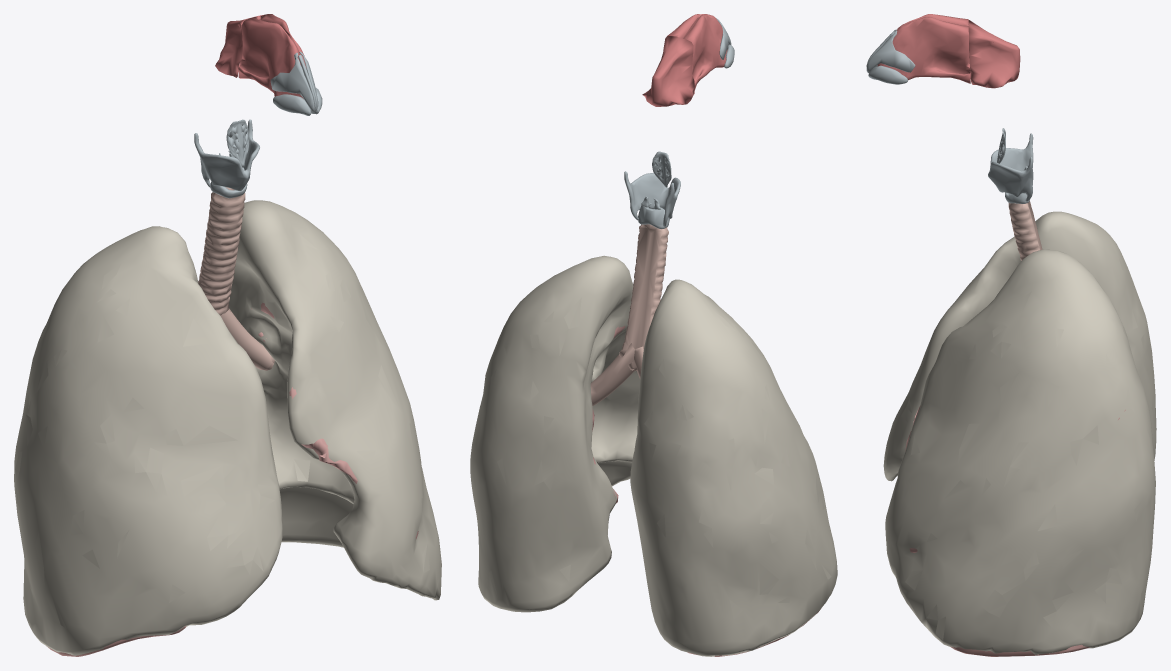
File: adult_male.respiratory.LOD1.glb
3 renders of one model, left to right at view 1: azimuth 30°, elevation 25°; view 2: azimuth 150°, elevation 25°; view 3: azimuth 270°, elevation 25°, orthographic. The views are drawn at different scales.
Parts seen in each view (by area): view 1: ADULT.MALE.RESPIRATORY.PLEURA, ADULT.MALE.RESPIRATORY.TRACHEA, ADULT.MALE.RESPIRATORY.MUCOSA_OF_NASAL_CAVITY, ADULT.MALE.RESPIRATORY.THYROID_CARTILAGE, ADULT.MALE.RESPIRATORY.NASOPHARYNX, ADULT.MALE.RESPIRATORY.LEFT_MAIN_BRONCHUS, ADULT.MALE.RESPIRATORY.LATERAL_PROCESS_OF_NASAL_SEPTAL_CARTI, ADULT.MALE.RESPIRATORY.EPIGLOTTIS, ADULT.MALE.RESPIRATORY.SUPERIOR_LOBE_OF_LEFT_LUNG; view 2: ADULT.MALE.RESPIRATORY.PLEURA, ADULT.MALE.RESPIRATORY.TRACHEA, ADULT.MALE.RESPIRATORY.NASOPHARYNX, ADULT.MALE.RESPIRATORY.MUCOSA_OF_NASAL_CAVITY, ADULT.MALE.RESPIRATORY.THYROID_CARTILAGE, ADULT.MALE.RESPIRATORY.LEFT_MAIN_BRONCHUS; view 3: ADULT.MALE.RESPIRATORY.PLEURA, ADULT.MALE.RESPIRATORY.MUCOSA_OF_NASAL_CAVITY, ADULT.MALE.RESPIRATORY.NASOPHARYNX, ADULT.MALE.RESPIRATORY.THYROID_CARTILAGE, ADULT.MALE.RESPIRATORY.TRACHEA, ADULT.MALE.RESPIRATORY.LATERAL_PROCESS_OF_NASAL_SEPTAL_CARTI, ADULT.MALE.RESPIRATORY.INFERIOR_LOBE_OF_LEFT_LUNG, ADULT.MALE.RESPIRATORY.MAJOR_ALAR_CARTILAGE.L.
Part boxes in pixels (x1,y1,x2,y2): ADULT.MALE.RESPIRATORY.PLEURA: [14, 200, 441, 655]; ADULT.MALE.RESPIRATORY.TRACHEA: [198, 187, 245, 315]; ADULT.MALE.RESPIRATORY.MUCOSA_OF_NASAL_CAVITY: [238, 14, 306, 98]; ADULT.MALE.RESPIRATORY.THYROID_CARTILAGE: [194, 119, 259, 190]; ADULT.MALE.RESPIRATORY.NASOPHARYNX: [215, 15, 262, 77]; ADULT.MALE.RESPIRATORY.LEFT_MAIN_BRONCHUS: [220, 309, 272, 369]; ADULT.MALE.RESPIRATORY.LATERAL_PROCESS_OF_NASAL_SEPTAL_CARTI: [270, 52, 314, 111]; ADULT.MALE.RESPIRATORY.EPIGLOTTIS: [226, 119, 249, 167]; ADULT.MALE.RESPIRATORY.SUPERIOR_LOBE_OF_LEFT_LUNG: [251, 302, 418, 539]; ADULT.MALE.RESPIRATORY.PLEURA: [470, 255, 837, 656]; ADULT.MALE.RESPIRATORY.TRACHEA: [619, 224, 668, 370]; ADULT.MALE.RESPIRATORY.NASOPHARYNX: [642, 36, 694, 106]; ADULT.MALE.RESPIRATORY.MUCOSA_OF_NASAL_CAVITY: [666, 14, 727, 90]; ADULT.MALE.RESPIRATORY.THYROID_CARTILAGE: [624, 171, 680, 226]; ADULT.MALE.RESPIRATORY.LEFT_MAIN_BRONCHUS: [590, 343, 634, 405]; ADULT.MALE.RESPIRATORY.PLEURA: [883, 211, 1156, 654]; ADULT.MALE.RESPIRATORY.MUCOSA_OF_NASAL_CAVITY: [877, 14, 970, 83]; ADULT.MALE.RESPIRATORY.NASOPHARYNX: [968, 20, 1020, 88]; ADULT.MALE.RESPIRATORY.THYROID_CARTILAGE: [988, 133, 1033, 201]; ADULT.MALE.RESPIRATORY.TRACHEA: [1008, 201, 1042, 260]; ADULT.MALE.RESPIRATORY.LATERAL_PROCESS_OF_NASAL_SEPTAL_CARTI: [866, 30, 915, 73]; ADULT.MALE.RESPIRATORY.INFERIOR_LOBE_OF_LEFT_LUNG: [950, 644, 1089, 656]; ADULT.MALE.RESPIRATORY.MAJOR_ALAR_CARTILAGE.L: [868, 65, 907, 84].
Bounding box in the file's own units: 0.2635 × 0.4307 × 0.2003.
